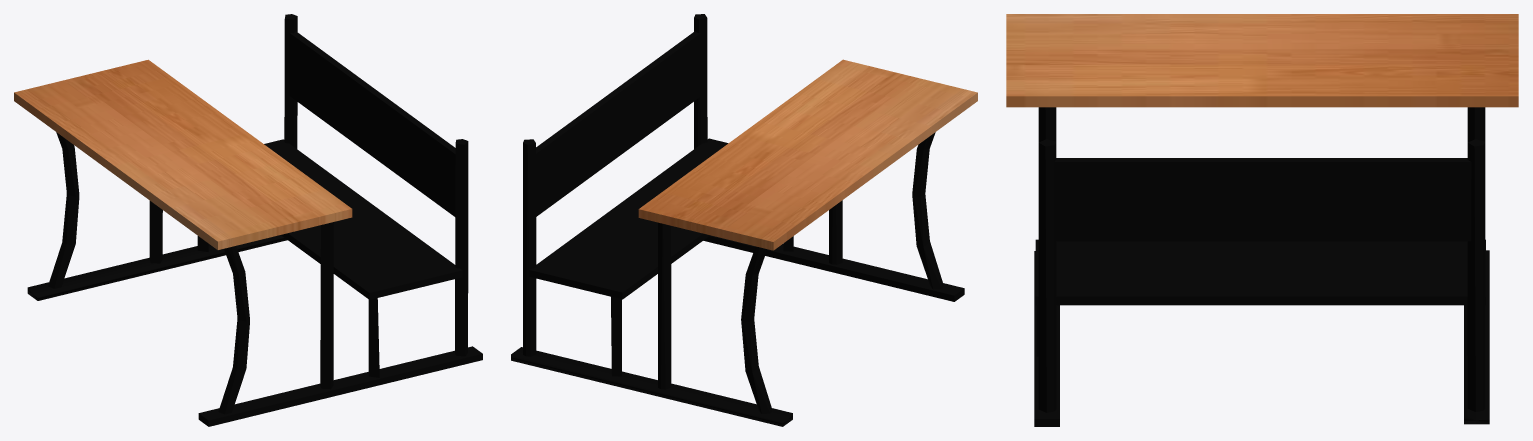
The model's file is reduced_SIT_TABLE.fbx.
3 renders of one model, left to right at view 1: azimuth 30°, elevation 25°; view 2: azimuth 150°, elevation 25°; view 3: azimuth 270°, elevation 25°, orthographic. The views are drawn at different scales.
Visible parts, largest first — view 1: Cube.004; view 2: Cube.004; view 3: Cube.004.
Boxes of the visible parts, x1,y1,x2,y2 form: Cube.004: [14, 14, 482, 426]; Cube.004: [511, 14, 977, 426]; Cube.004: [1006, 14, 1518, 426].
Bounding box in the file's own units: 252 × 190 × 322.
2 materials, 1 textured.
